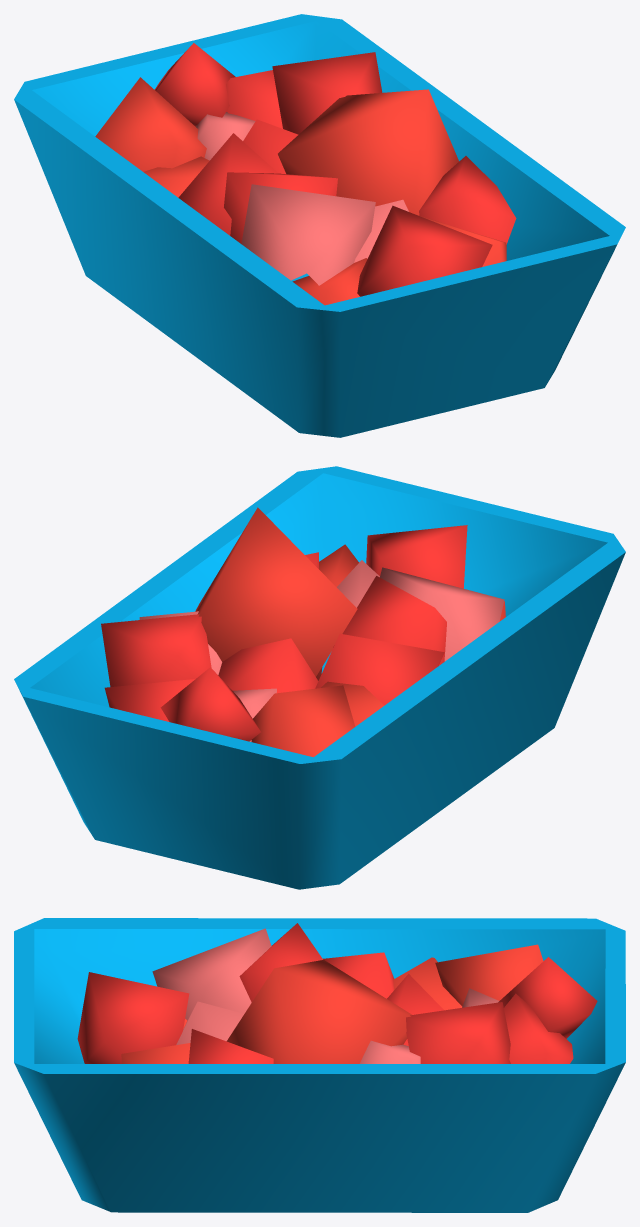
File: dish_002.glb
3 views of the same model, one above another, from view 1: azimuth 30°, elevation 25°; view 2: azimuth 150°, elevation 25°; view 3: azimuth 270°, elevation 25° (orthographic). The views are drawn at different scales.
Parts seen in each view (by area): view 1: dish_002; view 2: dish_002; view 3: dish_002.
Boxes of the visible parts, left/top/right/bottom form: dish_002: left=14, top=14, right=625, bottom=437; dish_002: left=14, top=466, right=625, bottom=889; dish_002: left=14, top=918, right=625, bottom=1212.
Size of the model in its own units: 0.1031 by 0.069 by 0.1709.
Materials: 1 (1 with a texture image).
